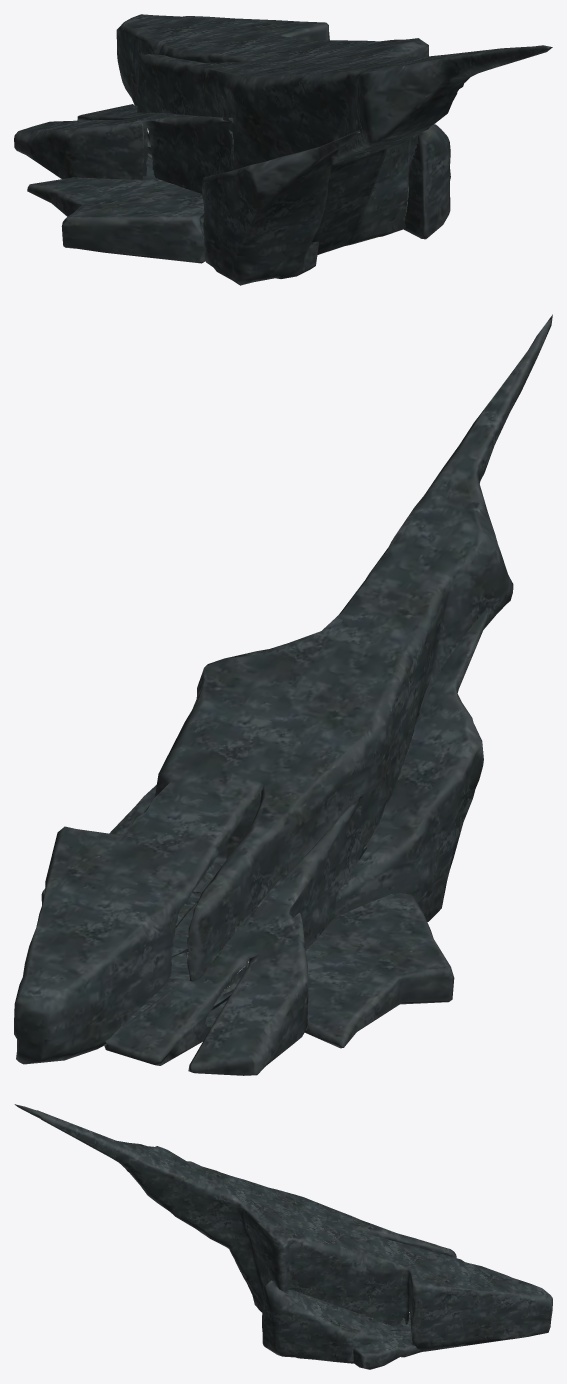
The picture shows the model from 3 angles, top to bottom: view 1: azimuth 30°, elevation 25°; view 2: azimuth 150°, elevation 25°; view 3: azimuth 270°, elevation 25°; orthographic projection. The views are drawn at different scales.
Parts seen in each view (by area): view 1: SM_US_VolcRock_01_v1_LOD0; view 2: SM_US_VolcRock_01_v1_LOD0; view 3: SM_US_VolcRock_01_v1_LOD0.
Part boxes in pixels (x1,y1,x2,y2): SM_US_VolcRock_01_v1_LOD0: [14, 14, 552, 285]; SM_US_VolcRock_01_v1_LOD0: [14, 314, 552, 1075]; SM_US_VolcRock_01_v1_LOD0: [14, 1104, 552, 1369].
Bounding box in the file's own units: 12.53 × 11.98 × 26.77.
1 material, 1 textured.
